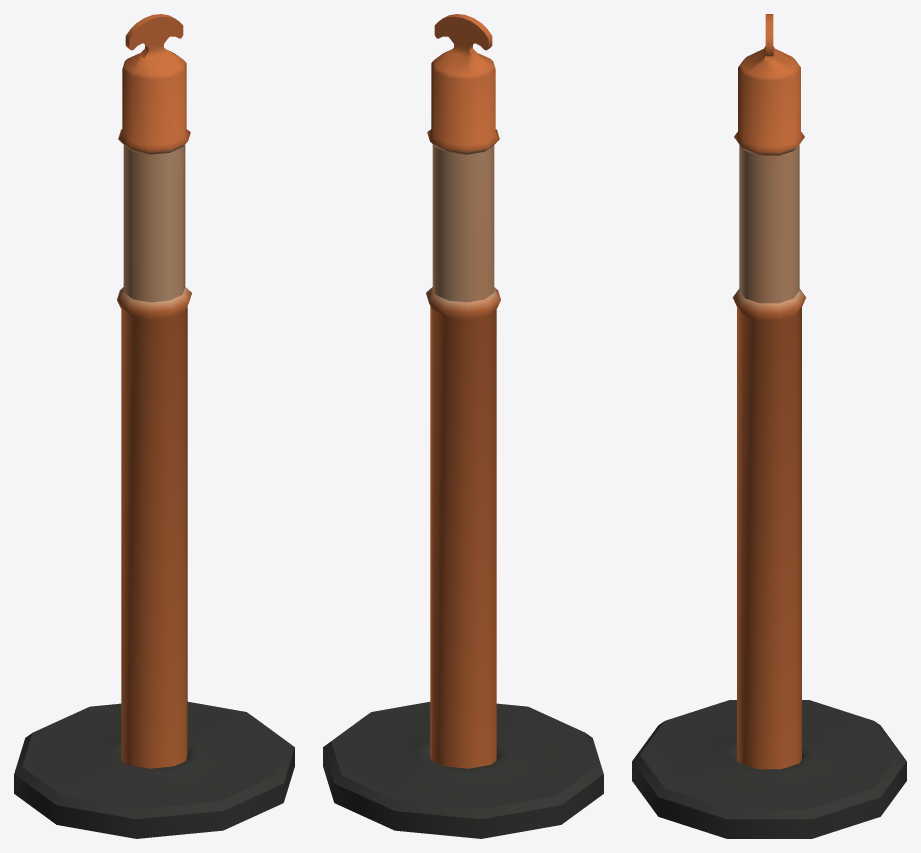
Rendered from T_bollard_cone.obj.
3 views of the same model, side by side, from view 1: azimuth 30°, elevation 25°; view 2: azimuth 150°, elevation 25°; view 3: azimuth 270°, elevation 25° (orthographic).
Visible parts, largest first — view 1: Bollard_LOD0; view 2: Bollard_LOD0; view 3: Bollard_LOD0.
Part boxes in pixels (box(x1,y1,x2,y2)): Bollard_LOD0: box(14, 14, 294, 838); Bollard_LOD0: box(323, 14, 603, 838); Bollard_LOD0: box(632, 14, 906, 838).
Size of the model in its own units: 0.5 by 1.53 by 0.5.
